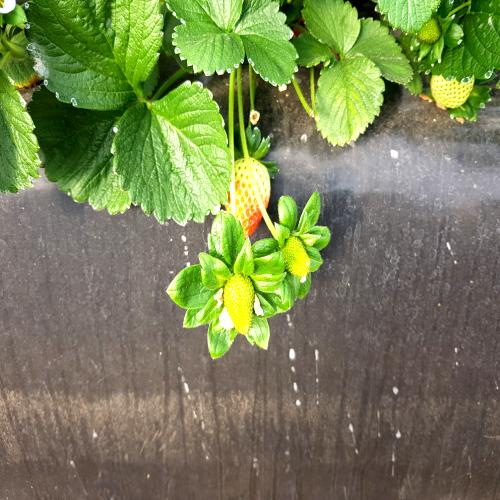partially-ripe: (228, 152, 270, 234)
